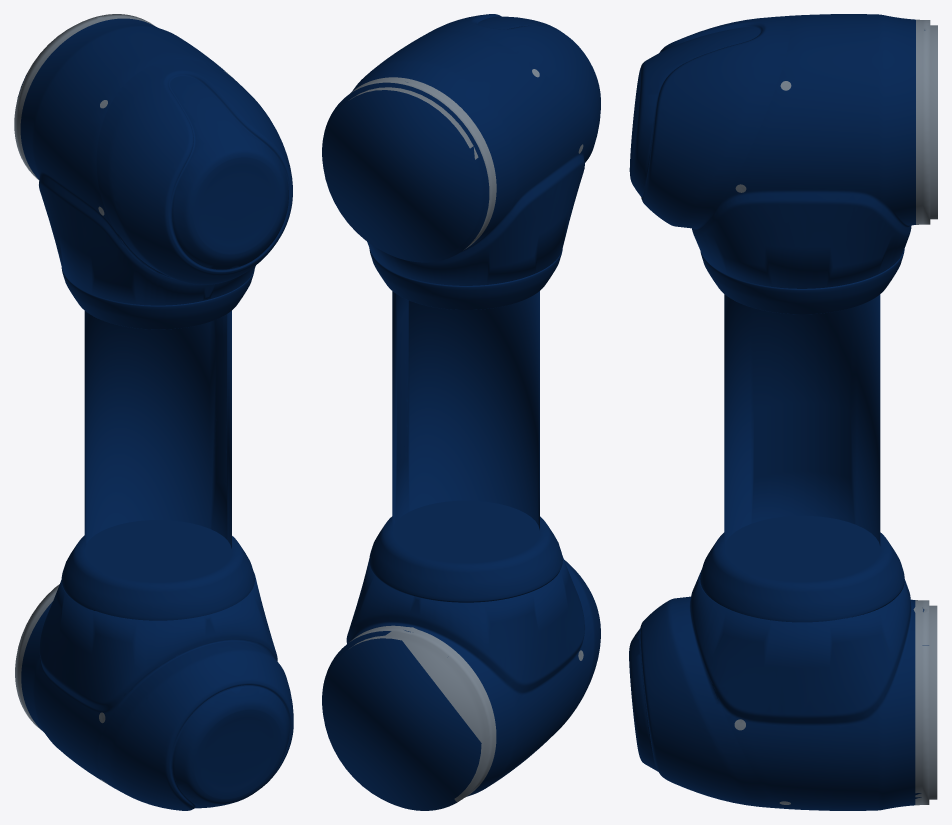
File: Link_2_UpperArm.dae
3 renders of one model, left to right at view 1: azimuth 30°, elevation 25°; view 2: azimuth 150°, elevation 25°; view 3: azimuth 270°, elevation 25°, orthographic. The views are drawn at different scales.
Size of the model in its own units: 0.143 by 0.1979 by 0.5485.
